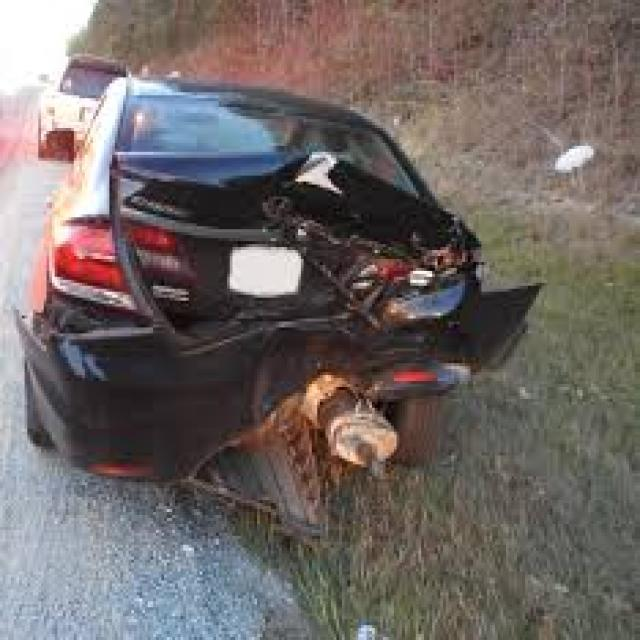damaged-trunk: (120, 163, 450, 341)
